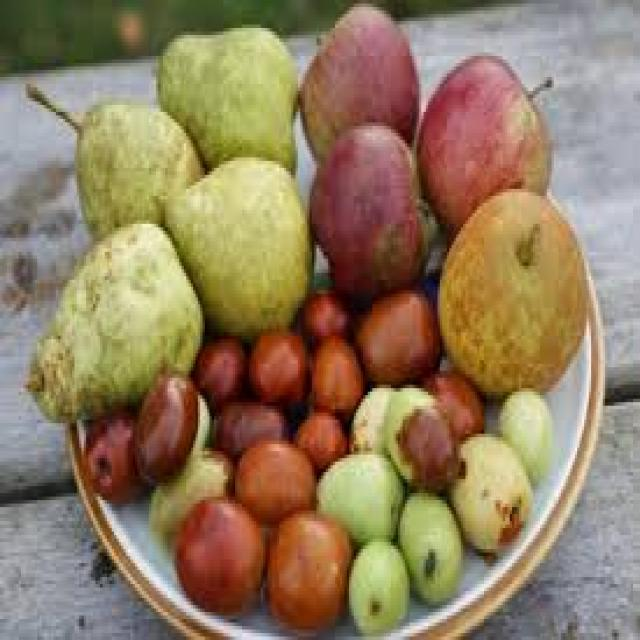organic waste: (21, 217, 202, 416), (433, 186, 584, 396), (21, 80, 202, 238), (154, 154, 307, 339), (414, 49, 556, 227), (153, 21, 298, 178), (307, 116, 431, 290), (300, 0, 414, 154), (174, 489, 266, 608), (452, 430, 528, 556), (349, 287, 442, 388), (263, 504, 344, 619), (146, 444, 232, 546), (314, 448, 405, 535), (396, 482, 460, 602), (382, 385, 458, 486), (228, 433, 314, 518), (132, 367, 195, 479), (84, 402, 146, 500), (344, 535, 408, 626), (207, 398, 291, 462), (498, 381, 552, 479), (416, 364, 486, 437), (305, 328, 361, 412), (247, 329, 307, 402), (193, 336, 249, 402), (344, 381, 394, 448), (294, 406, 344, 472), (298, 290, 349, 336), (191, 392, 214, 454)
